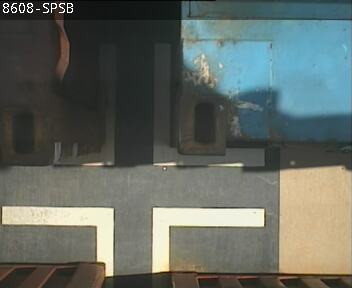groundmarker_1: (73, 43, 263, 166), (2, 203, 266, 288)
